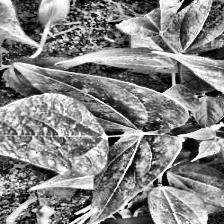Bean Rust: (15, 63, 174, 131), (0, 97, 114, 171), (86, 138, 184, 216)
